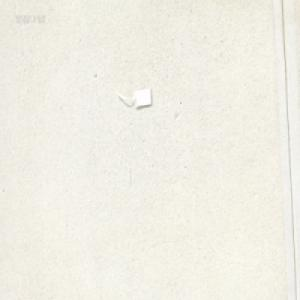LuggageTag: (114, 87, 151, 110)
